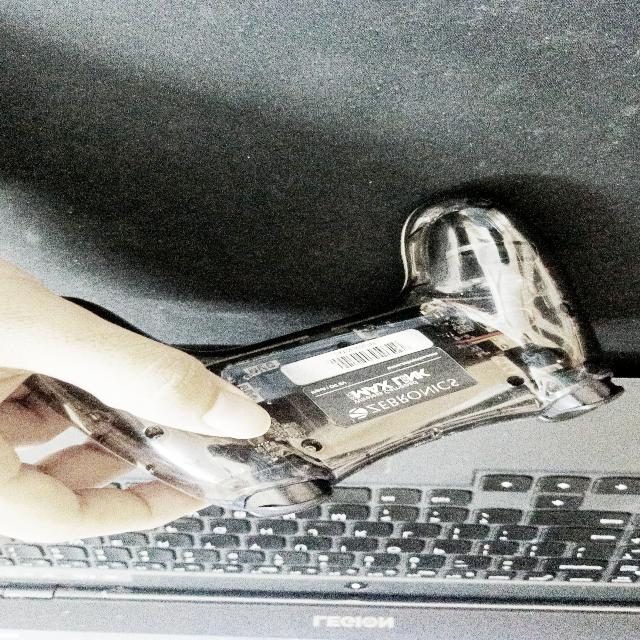gamepad: (24, 192, 625, 517)
